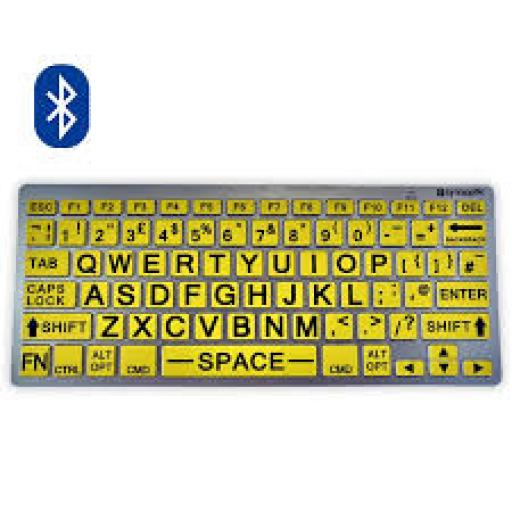KEYBOARD-2: (10, 180, 506, 390)
